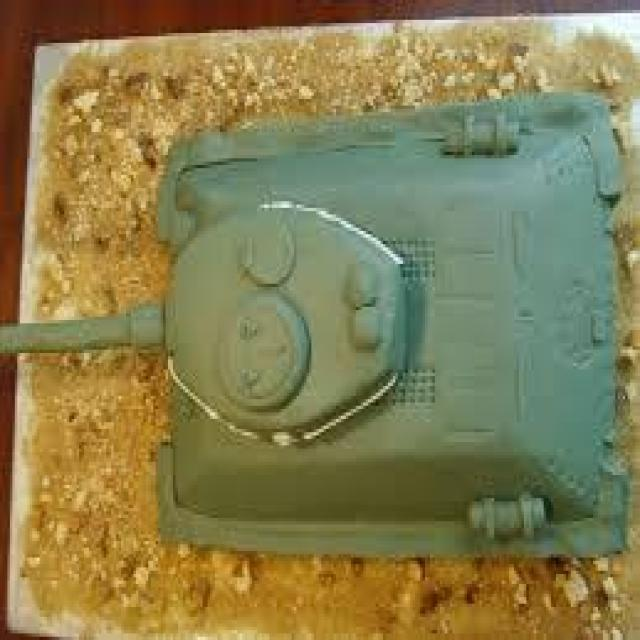Tanks: (10, 46, 630, 620)
